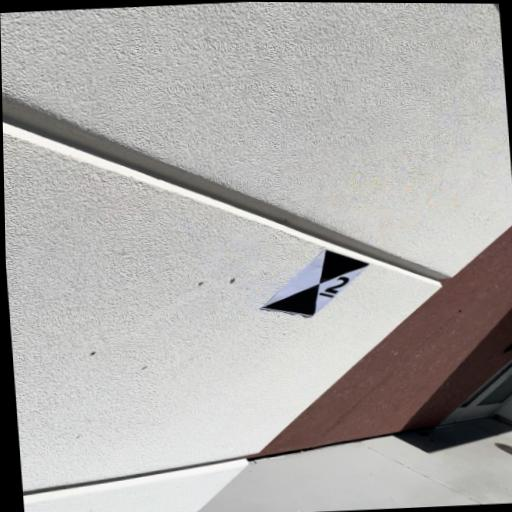target2: (258, 249, 371, 316)
